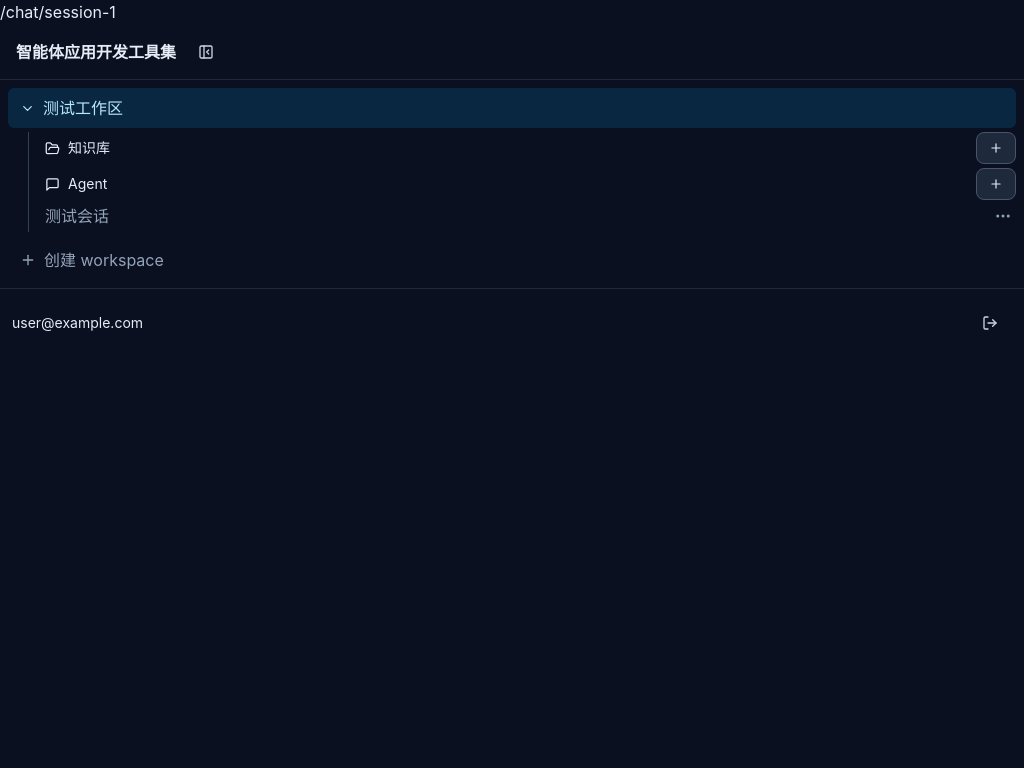
Test: a failed session deletion keeps the confirmation open
Click the button named "会话操作：测试会话". click: (1003, 216)
box: [990,203,1016,229]
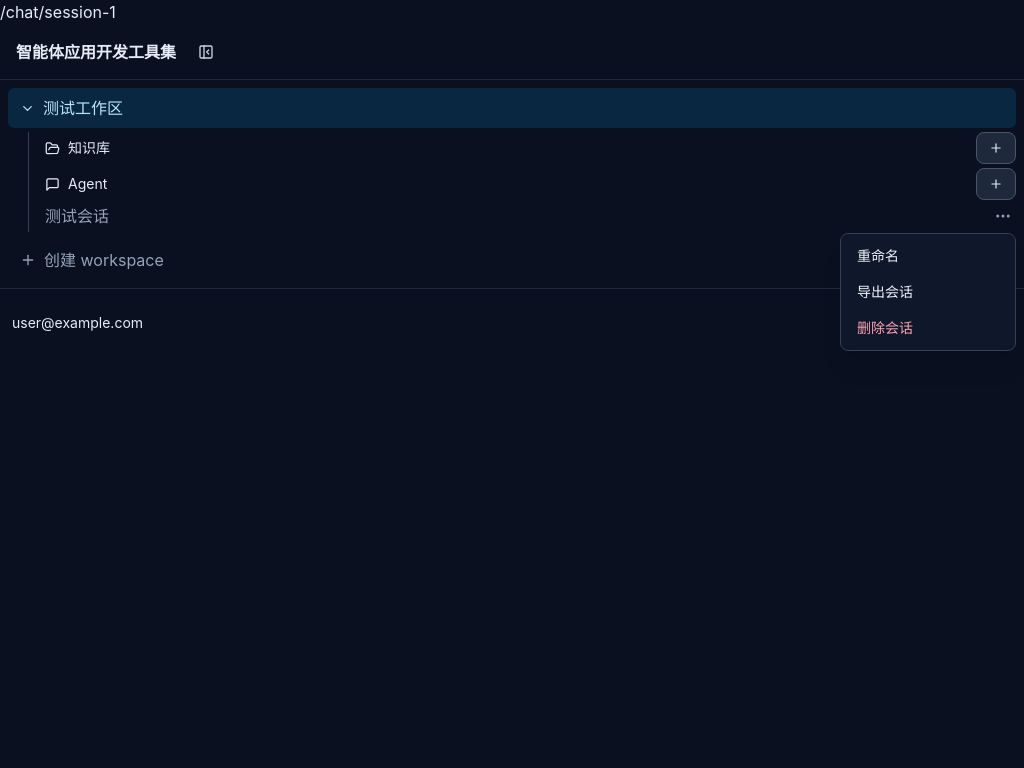
Click the menu item "删除会话". click: (928, 328)
box: [845,310,1011,346]
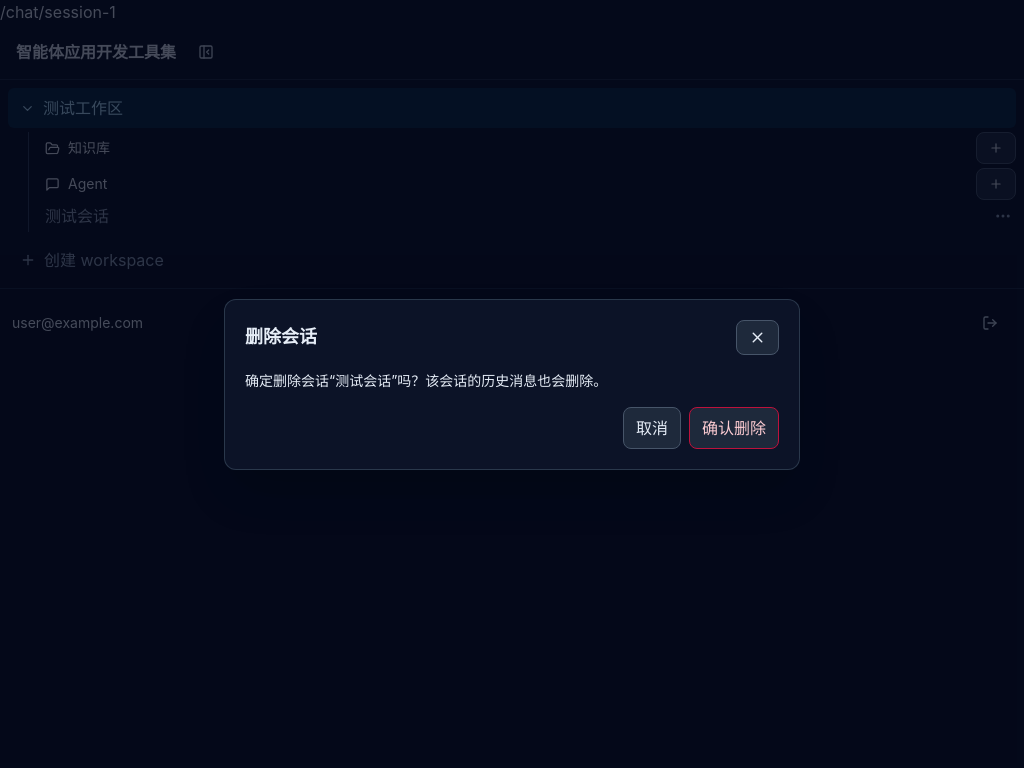
Click the button "确认删除". click: (734, 428)
box: [689,406,779,448]
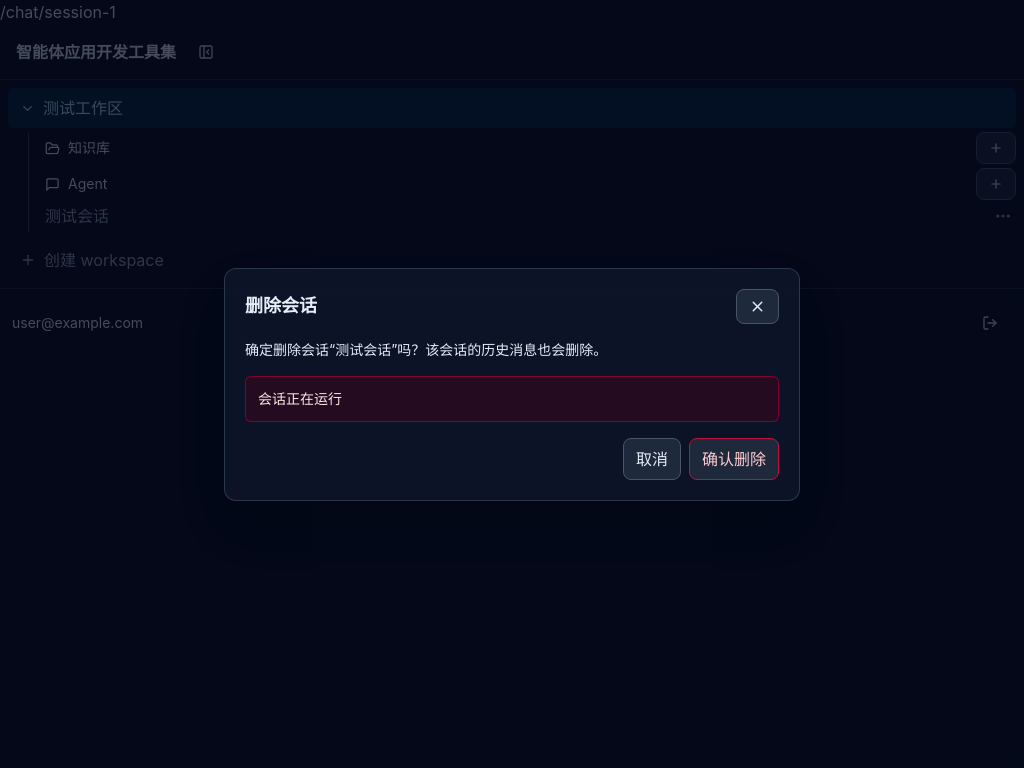
Expected: the dialog "删除会话" is shown
Expected: the text "会话正在运行" is shown, [258,390,342,406]
